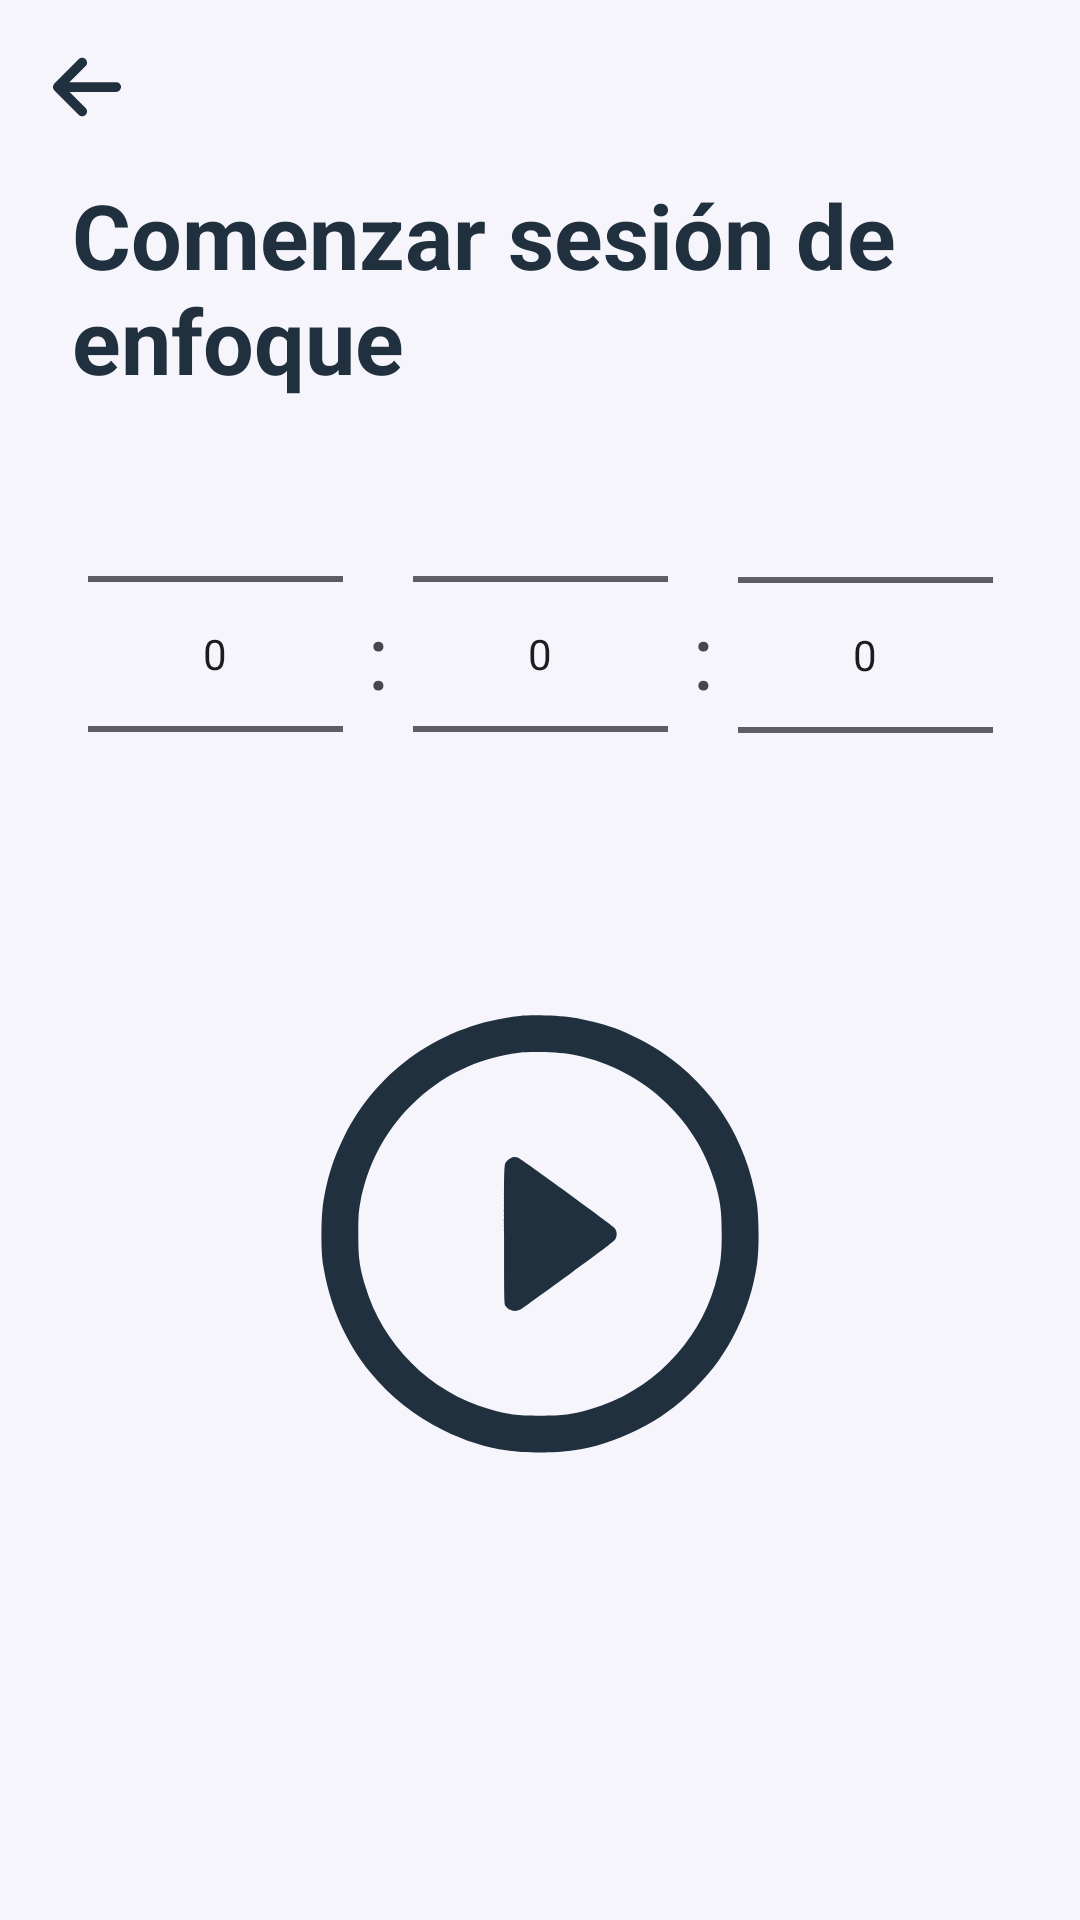

Icon click points for this 1080*1920 phone screenshot, format (x=x, y=y):
go back arrow: (x=87, y=87)
